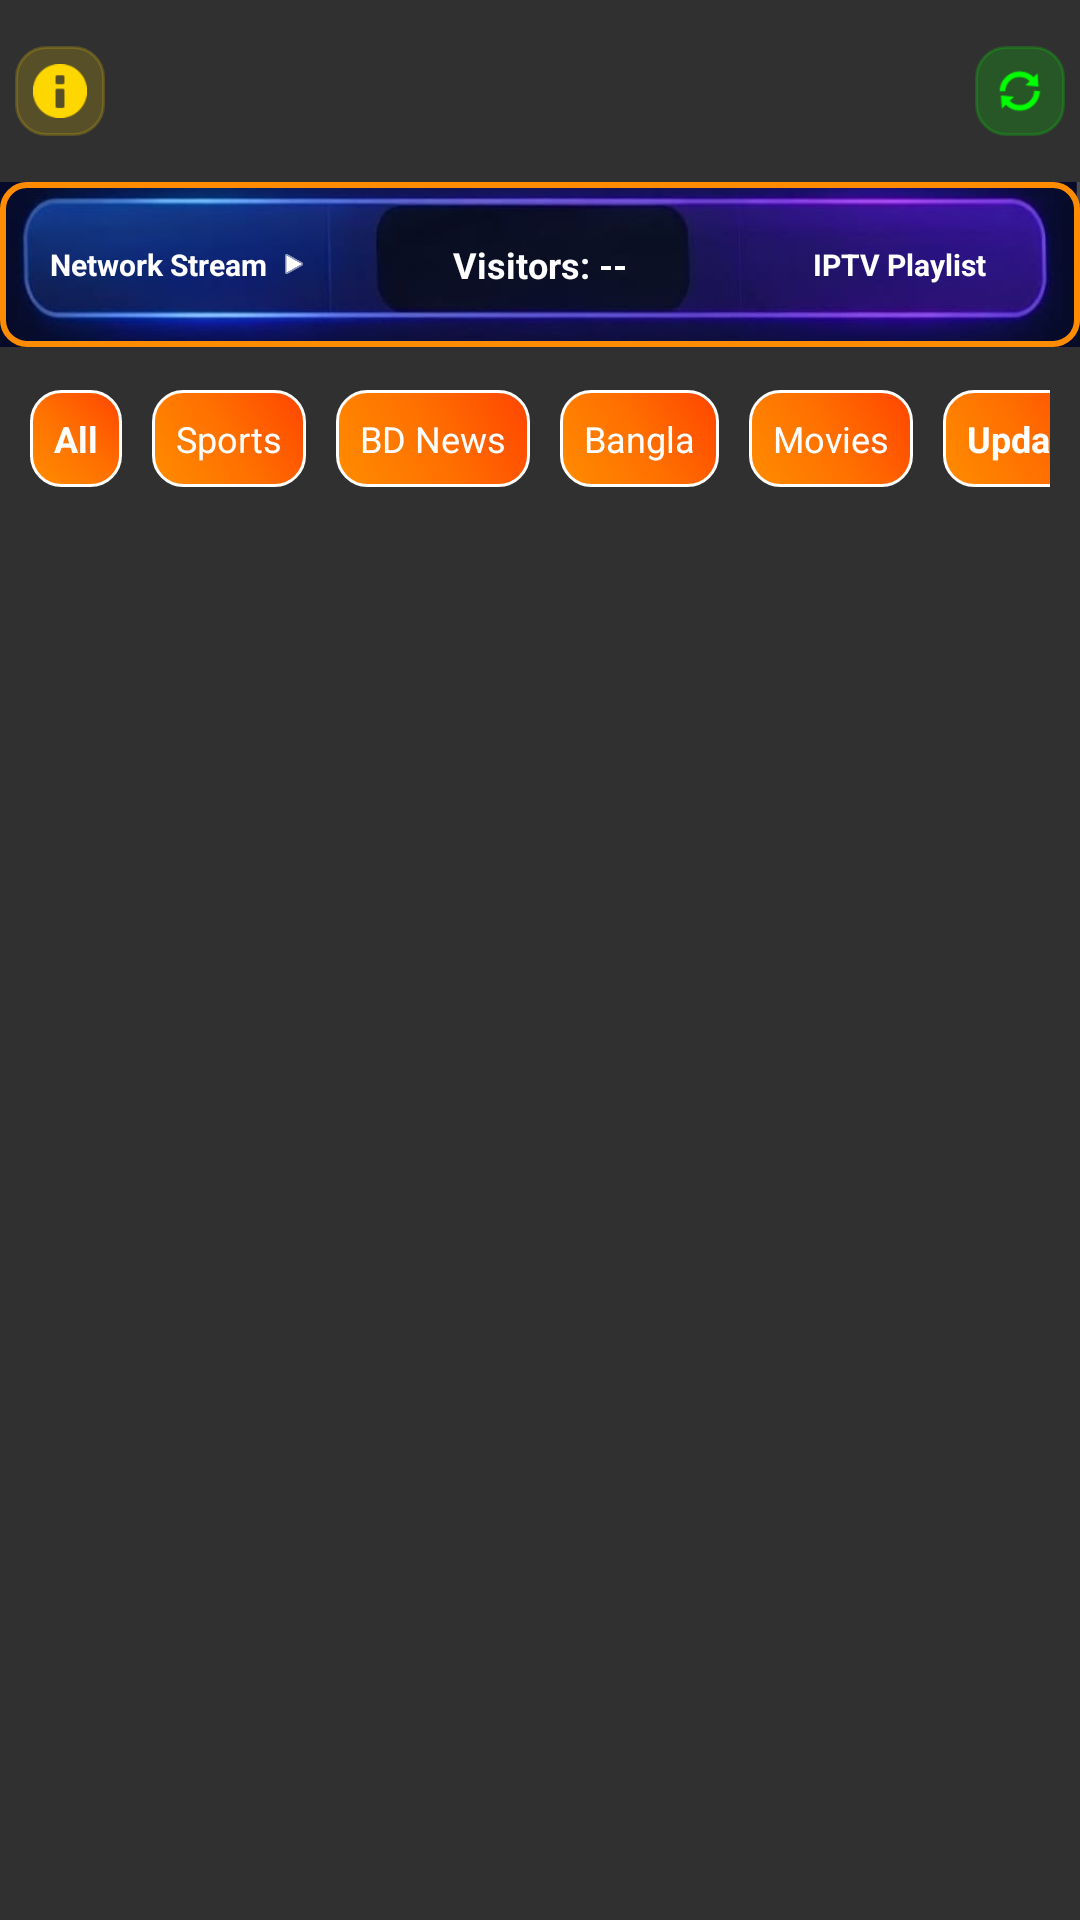

Where icons sit on this 1080*1920 app screen, as (x1=x1, y1=y1, x2=x2, y2=y2):
info: (x1=15, y1=46, x2=105, y2=136)
popup sync: (x1=975, y1=46, x2=1065, y2=136)
